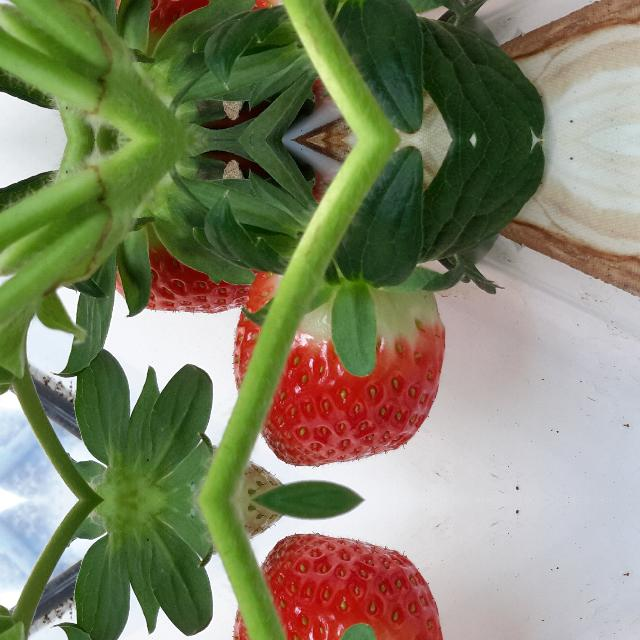Health_100: (232, 272, 446, 468), (232, 532, 445, 640)
